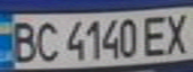0: (118, 15, 142, 58)
1: (81, 16, 103, 61)
4: (63, 17, 84, 62), (100, 16, 121, 60)
B: (6, 17, 39, 64)
C: (30, 18, 60, 63)
E: (139, 11, 172, 57)
X: (160, 9, 193, 55)
